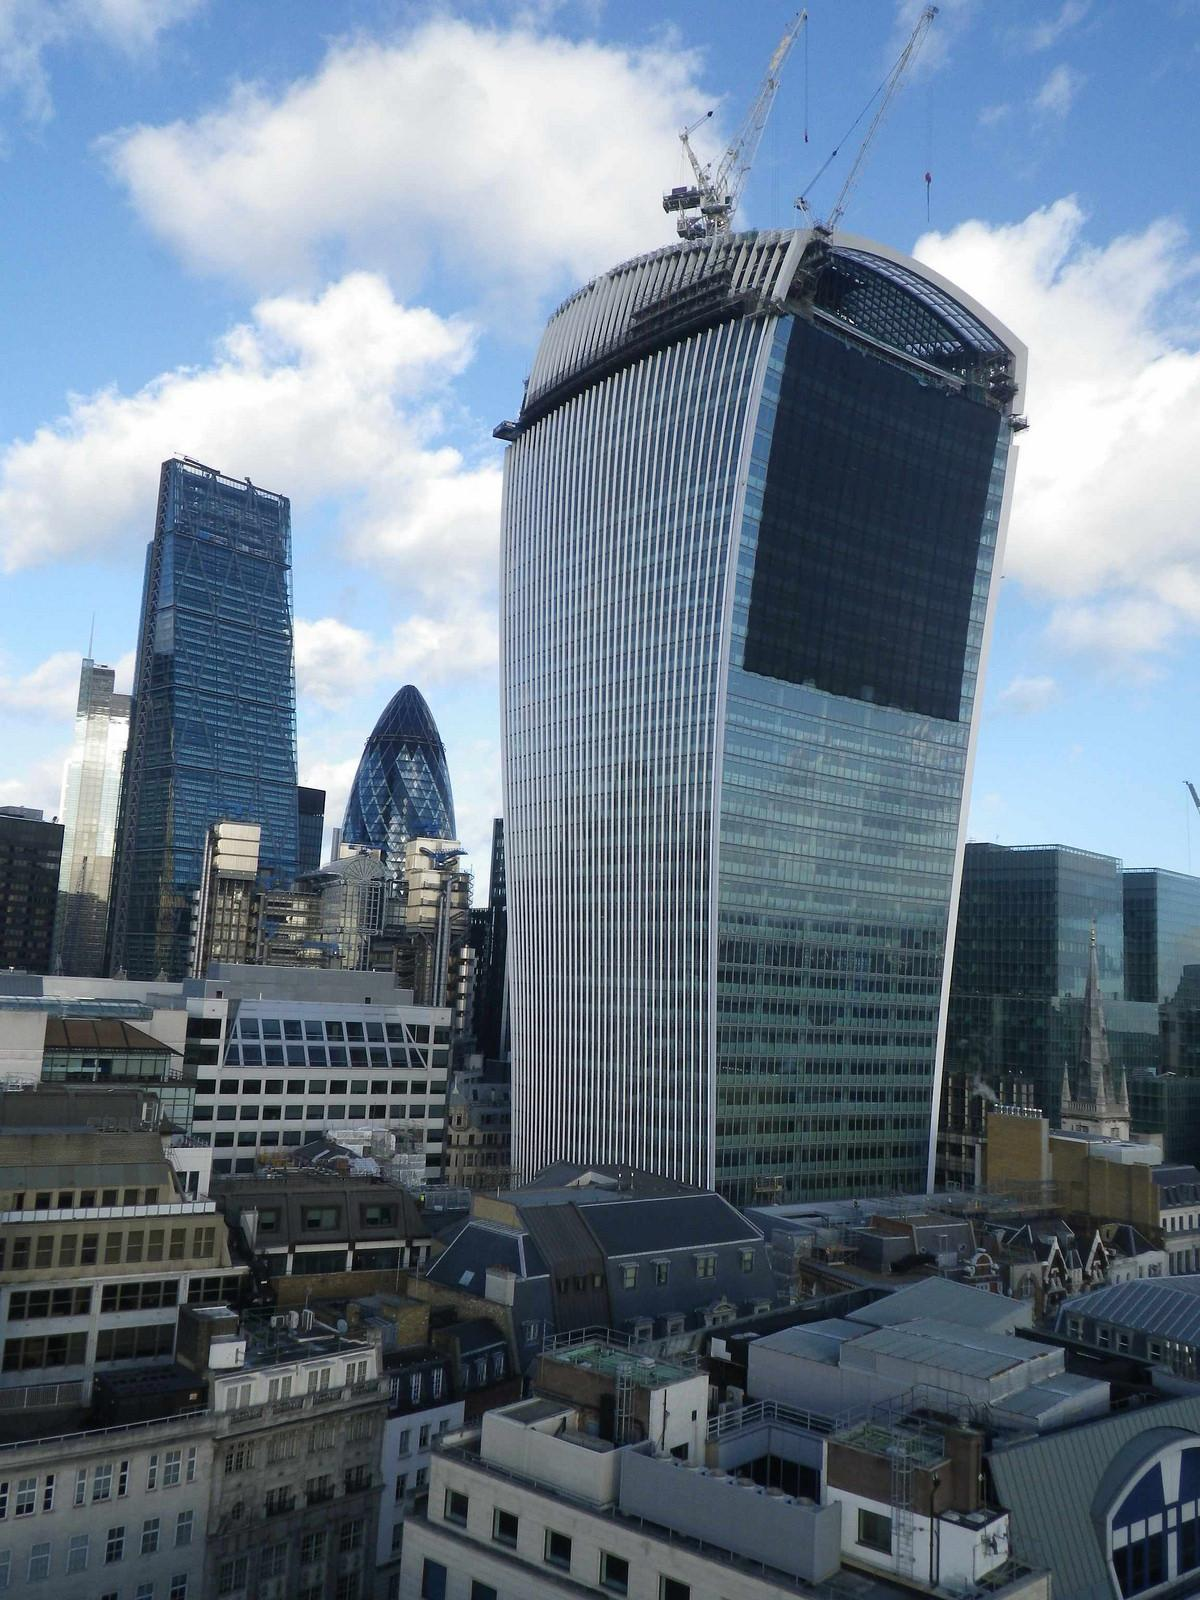Walkie talkie: (463, 188, 1044, 1186)
